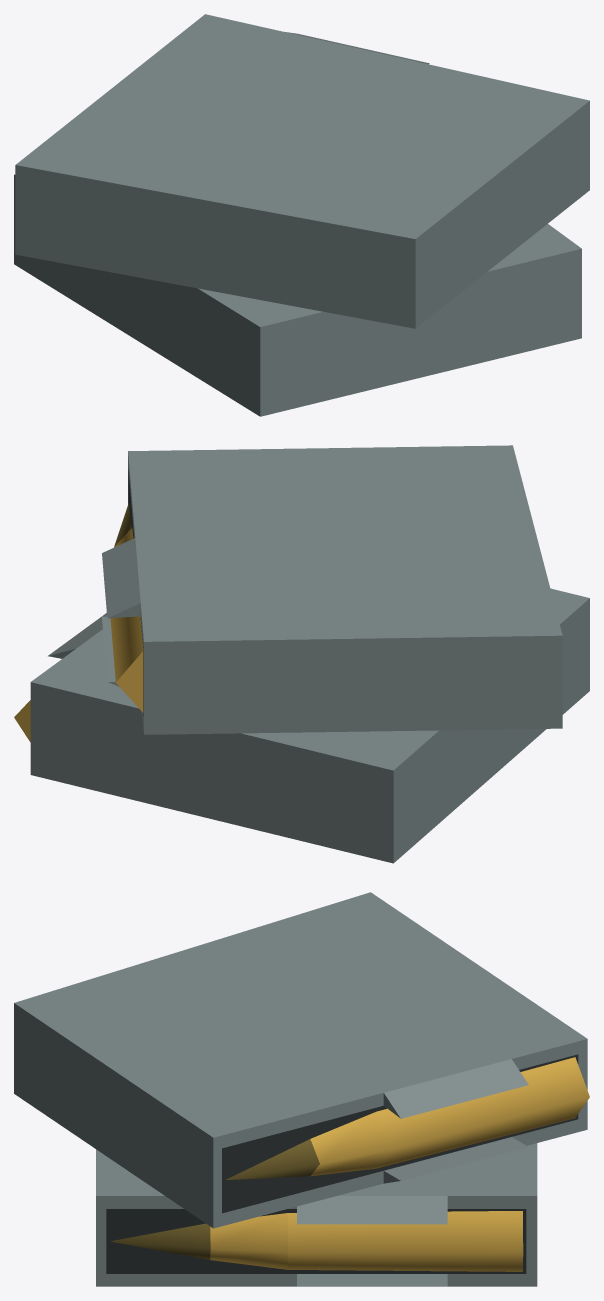
Rendered from AmmoSmall_762mm.FBX.
3 views of the same model, one above another, from view 1: azimuth 30°, elevation 25°; view 2: azimuth 150°, elevation 25°; view 3: azimuth 270°, elevation 25° (orthographic). The views are drawn at different scales.
Parts seen in each view (by area): view 1: AmmoSmall_762mm; view 2: AmmoSmall_762mm; view 3: AmmoSmall_762mm.
Boxes of the visible parts, x1=… form: AmmoSmall_762mm: x1=14, y1=14, x2=589, y2=416; AmmoSmall_762mm: x1=14, y1=445, x2=589, y2=863; AmmoSmall_762mm: x1=14, y1=892, x2=589, y2=1286.
Bounding box in the file's own units: 13.53 × 13.41 × 4.66.
